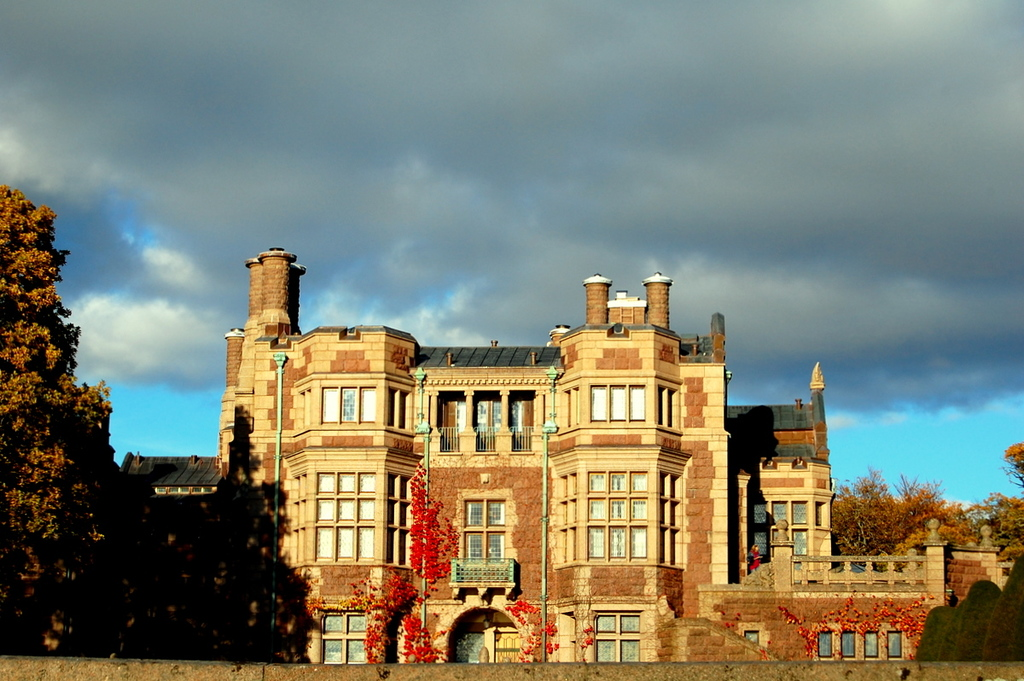Tree: (9, 205, 103, 600), (824, 459, 1023, 562), (402, 461, 467, 593), (343, 558, 418, 660), (398, 610, 444, 668), (997, 438, 1023, 487)
